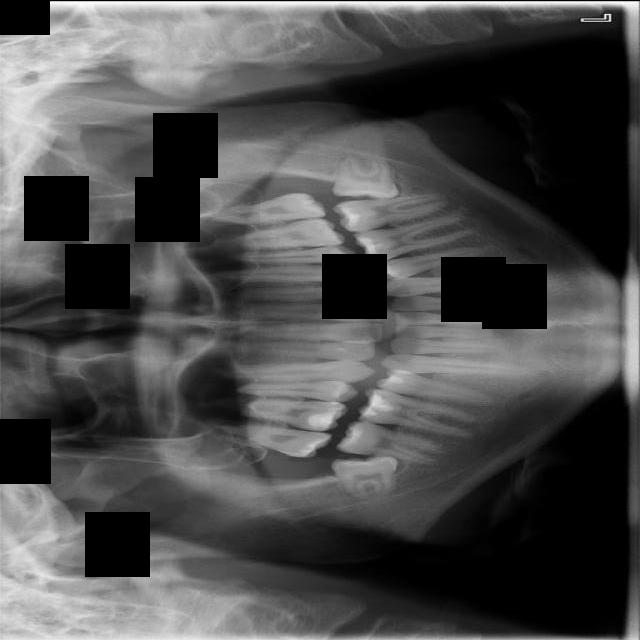52: (330, 188, 383, 244), (355, 382, 402, 431), (353, 222, 401, 267), (298, 400, 350, 432), (322, 279, 377, 305), (375, 361, 413, 396), (329, 339, 376, 362)
73: (616, 12, 626, 21)
BioHorizons Implant: (203, 189, 328, 227)
Biomet 3i Implant: (331, 152, 402, 201)
Blue Sky Bio Implant: (333, 191, 449, 234)
Caries: (212, 419, 334, 460)
Implant: (335, 417, 455, 467)
Keystone Dental Implant: (330, 449, 404, 504)
